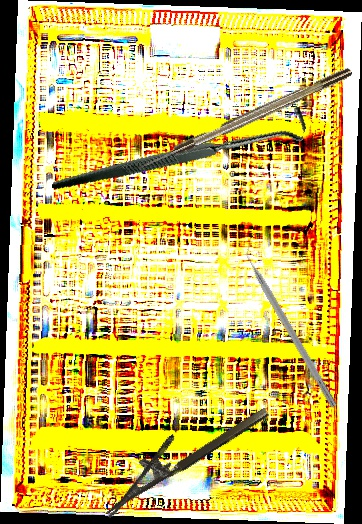Chopper: (237, 237, 347, 409)
Hook Surgical: (51, 50, 311, 248), (136, 66, 354, 173)
Needle Holder: (89, 385, 271, 519)
